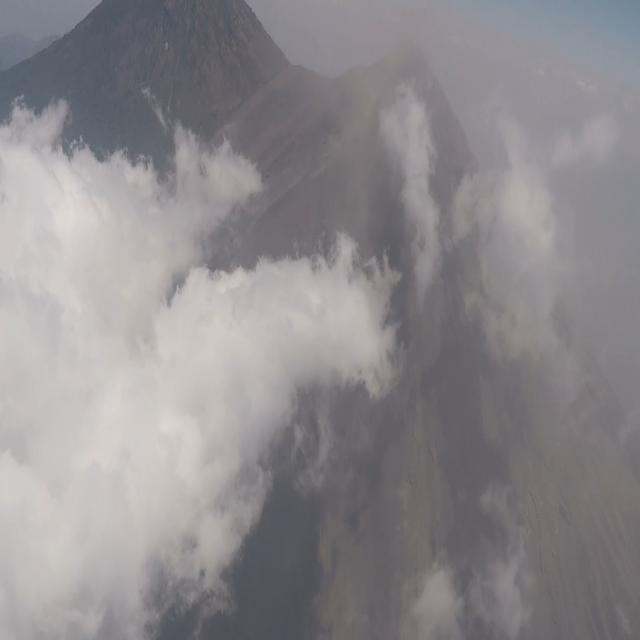Summit: (320, 27, 483, 166)
